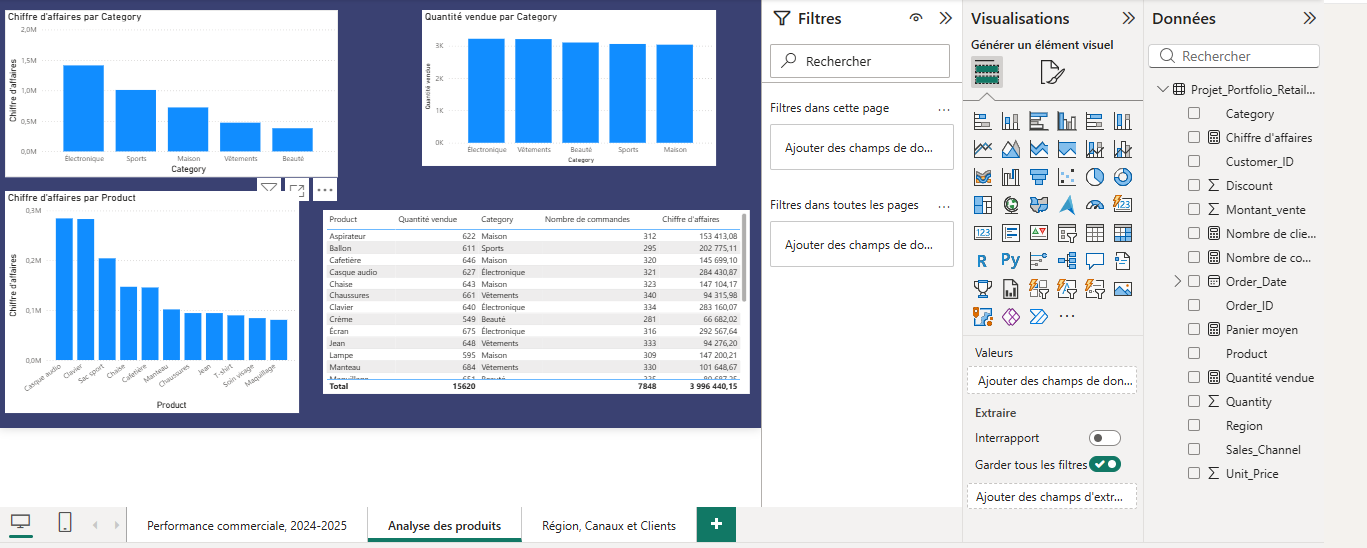

Layout of this report page (visuals, bound fields, positions):
{"tool":"powerbi","page":{"name":"Analyse des produits","canvas":[1280,720],"ordinal":1},"visuals":[{"type":"clusteredColumnChart","fields":{"Category":["Projet_Portfolio_Retail_Transactions_Sale.Category"],"Y":["Projet_Portfolio_Retail_Transactions_Sale.Chiffre d'affaires"]},"box":[10.1,18.5,559.4,280.5],"z":0},{"type":"clusteredColumnChart","fields":{"Category":["Projet_Portfolio_Retail_Transactions_Sale.Product"],"Y":["Projet_Portfolio_Retail_Transactions_Sale.Chiffre d'affaires"]},"box":[10.1,322.5,493.9,372.9],"z":1000},{"type":"clusteredColumnChart","fields":{"Y":["Projet_Portfolio_Retail_Transactions_Sale.Quantité vendue"],"Category":["Projet_Portfolio_Retail_Transactions_Sale.Category"]},"box":[710.6,18.5,493.9,262],"z":2000},{"type":"tableEx","fields":{"Values":["Projet_Portfolio_Retail_Transactions_Sale.Product","Projet_Portfolio_Retail_Transactions_Sale.Quantité vendue","Projet_Portfolio_Retail_Transactions_Sale.Category","Projet_Portfolio_Retail_Transactions_Sale.Nombre de commandes","Projet_Portfolio_Retail_Transactions_Sale.Chiffre d'affaires"]},"box":[544.3,354.4,717.3,309.1],"z":2001}]}

Visuals, with their boxes on the page's 1280x720 design canvas (x1, y1, x2, y2). These are canvas units, not pixel positions in the 1367x548 screenshot, which may show the page scaled, cropped or inside an application window:
clusteredColumnChart - Projet_Portfolio_Retail_Transactions_Sale.Category x Projet_Portfolio_Retail_Transactions_Sale.Chiffre d'affaires: BBox(10, 18, 570, 299)
clusteredColumnChart - Projet_Portfolio_Retail_Transactions_Sale.Product x Projet_Portfolio_Retail_Transactions_Sale.Chiffre d'affaires: BBox(10, 322, 504, 695)
clusteredColumnChart - Projet_Portfolio_Retail_Transactions_Sale.Quantité vendue x Projet_Portfolio_Retail_Transactions_Sale.Category: BBox(711, 18, 1204, 280)
tableEx - Projet_Portfolio_Retail_Transactions_Sale.Product x Projet_Portfolio_Retail_Transactions_Sale.Quantité vendue: BBox(544, 354, 1262, 664)
